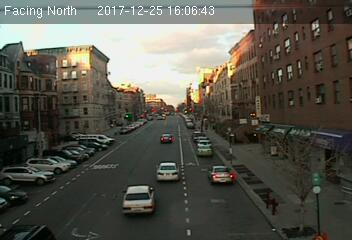car: (121, 184, 155, 214), (156, 161, 179, 183), (208, 164, 233, 183), (196, 144, 214, 157), (159, 134, 174, 144)
